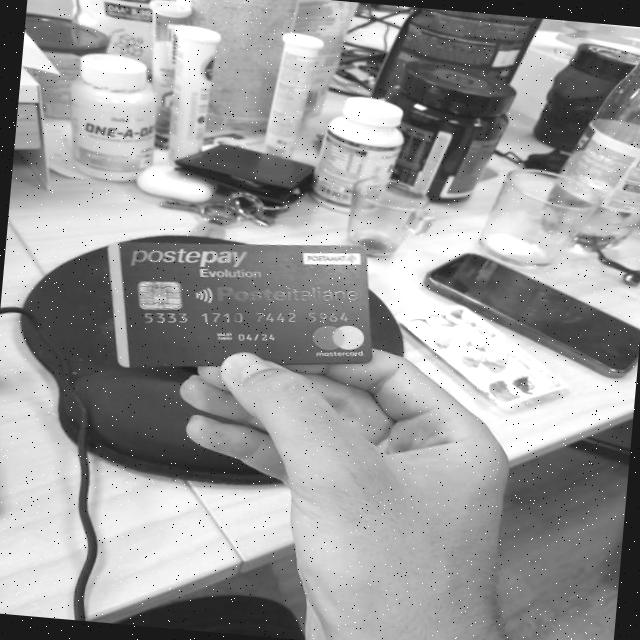card: (110, 241, 378, 367)
